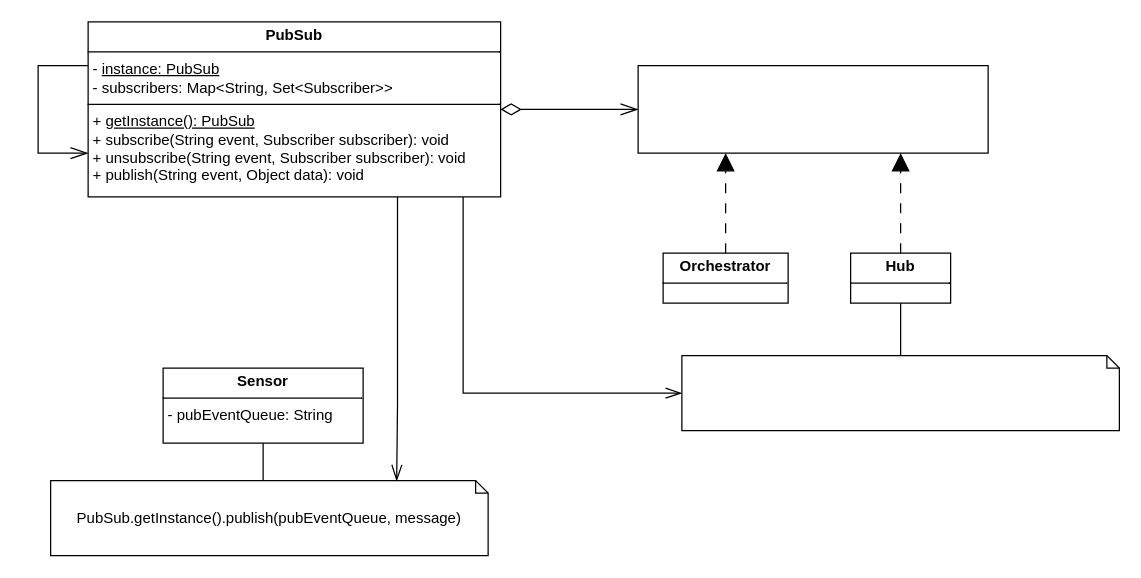
This 1141x578 diagram has some shape labels left out. Each missing label, with the centre of its shape:
<<interface>> Subscriber + update(String eventQueue, Object object): void: [812,108]
PubSub.getInstance().publish(RoutingUtils.getEventQueue(...)): [900,392]
